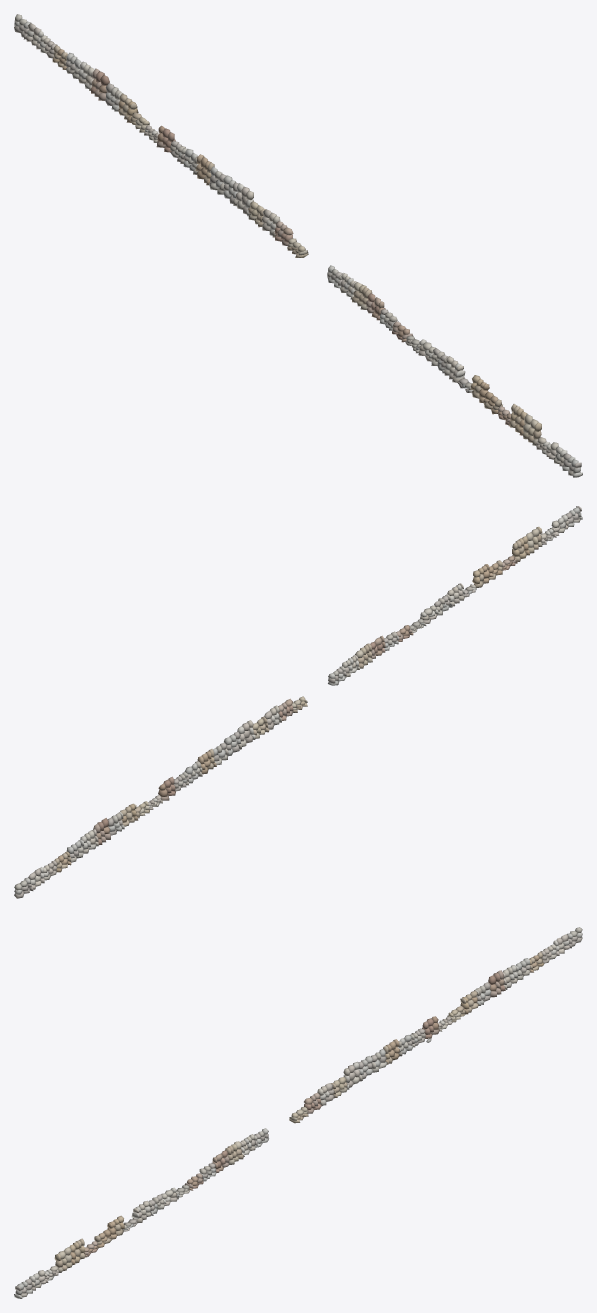
File: farm_-5_10_near.glb
3 views of the same model, one above another, from view 1: azimuth 30°, elevation 25°; view 2: azimuth 150°, elevation 25°; view 3: azimuth 330°, elevation 25° (orthographic). The views are drawn at different scales.
Visible parts, largest first — view 1: geometry_0; view 2: geometry_0; view 3: geometry_0.
Part boxes in pixels (x1,y1,x2,y2): geometry_0: [14, 14, 582, 477]; geometry_0: [14, 506, 582, 898]; geometry_0: [14, 927, 582, 1298].
Size of the model in its own units: 3.9 by 2.16 by 68.34.
